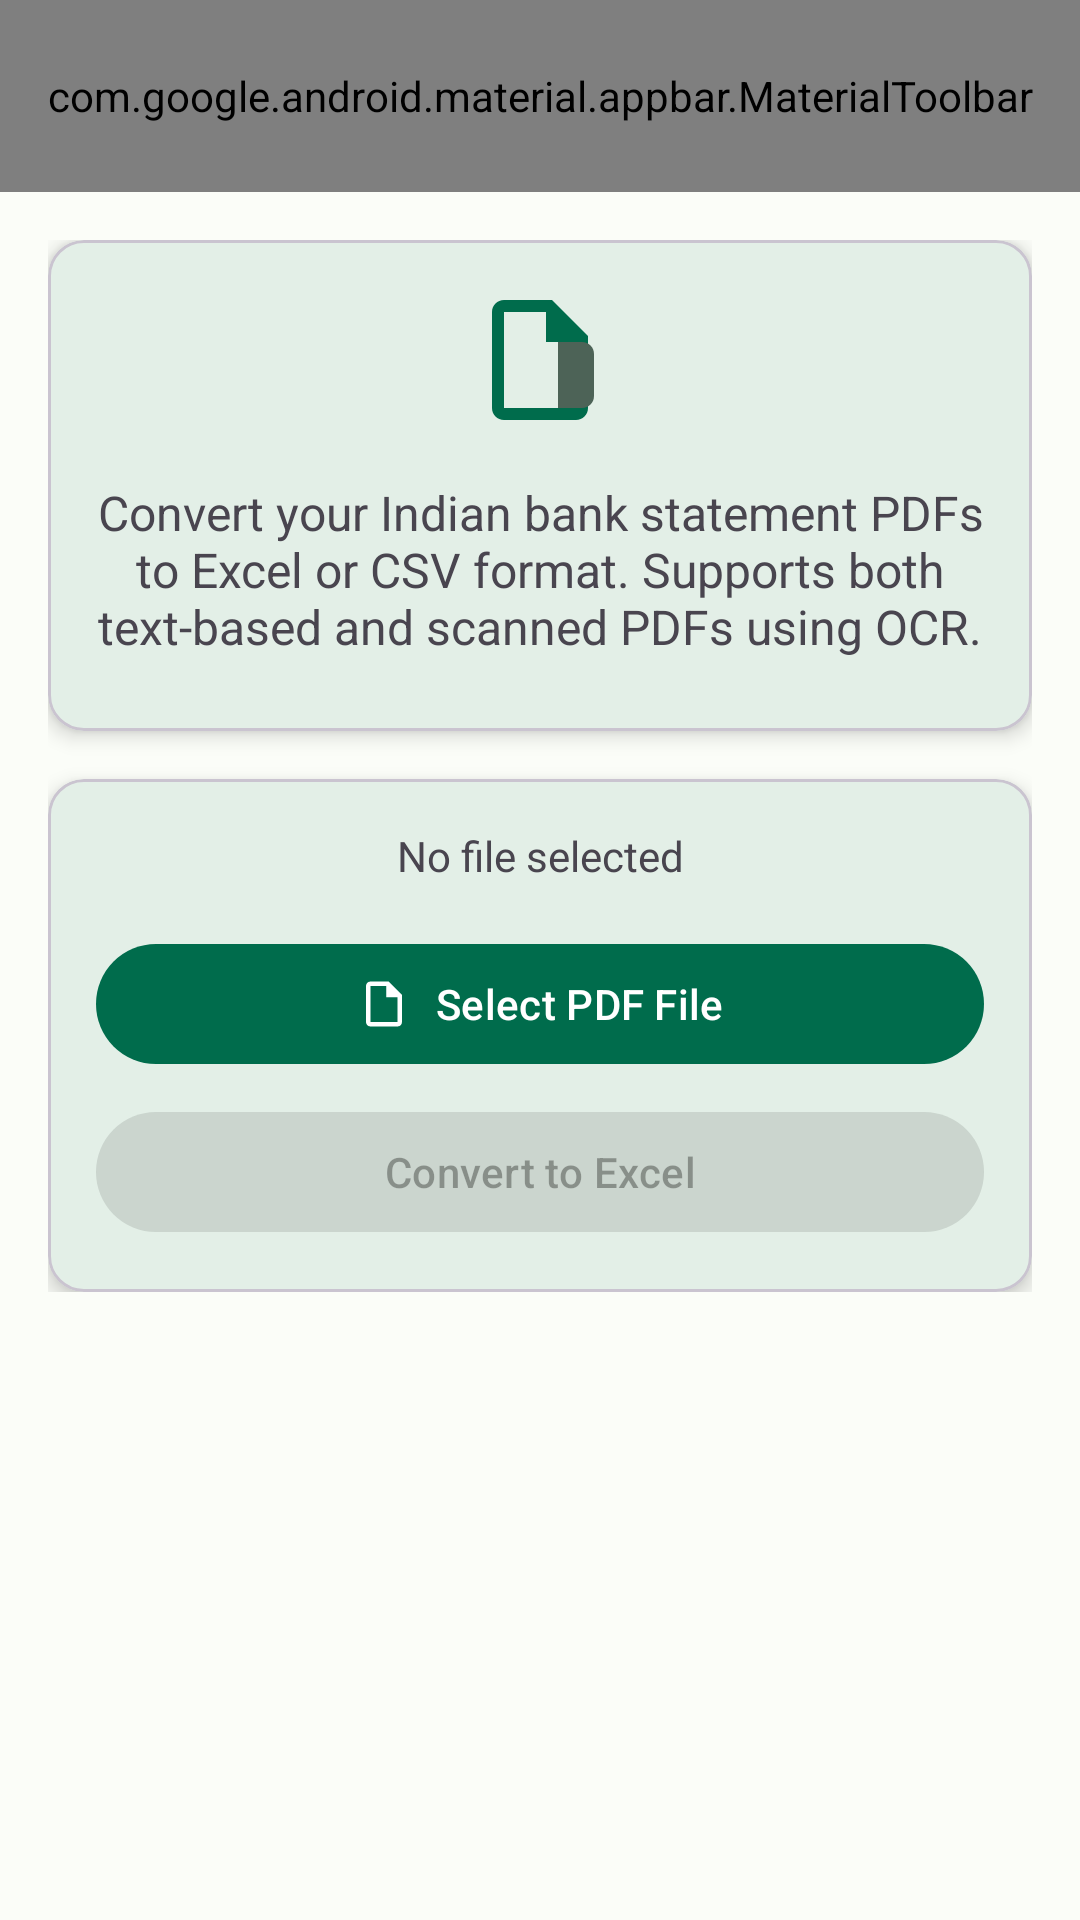

Point at icon controls on the screen. Image size 1080x1920, points as [x,y].
pdf excel: [543,360]
